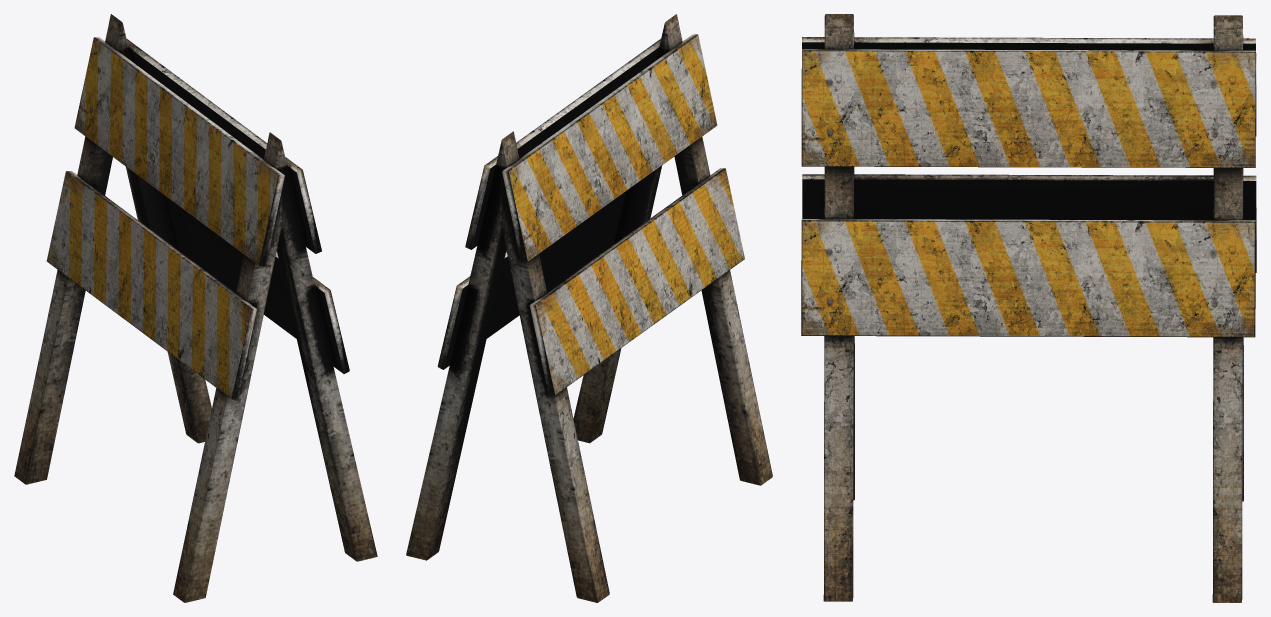
The model's file is BarrierSmallWooden.fbx.
3 renders of one model, left to right at view 1: azimuth 30°, elevation 25°; view 2: azimuth 150°, elevation 25°; view 3: azimuth 270°, elevation 25°, orthographic. The views are drawn at different scales.
Visible parts, largest first — view 1: barrier_smallwooden_LOD0; view 2: barrier_smallwooden_LOD0; view 3: barrier_smallwooden_LOD0.
Part boxes in pixels (x1=…): barrier_smallwooden_LOD0: x1=14, y1=14, x2=377, y2=602; barrier_smallwooden_LOD0: x1=406, y1=14, x2=772, y2=602; barrier_smallwooden_LOD0: x1=801, y1=14, x2=1256, y2=602.
Size of what is drawn, in the model's own units: 0.5988 by 1.29 by 1.
